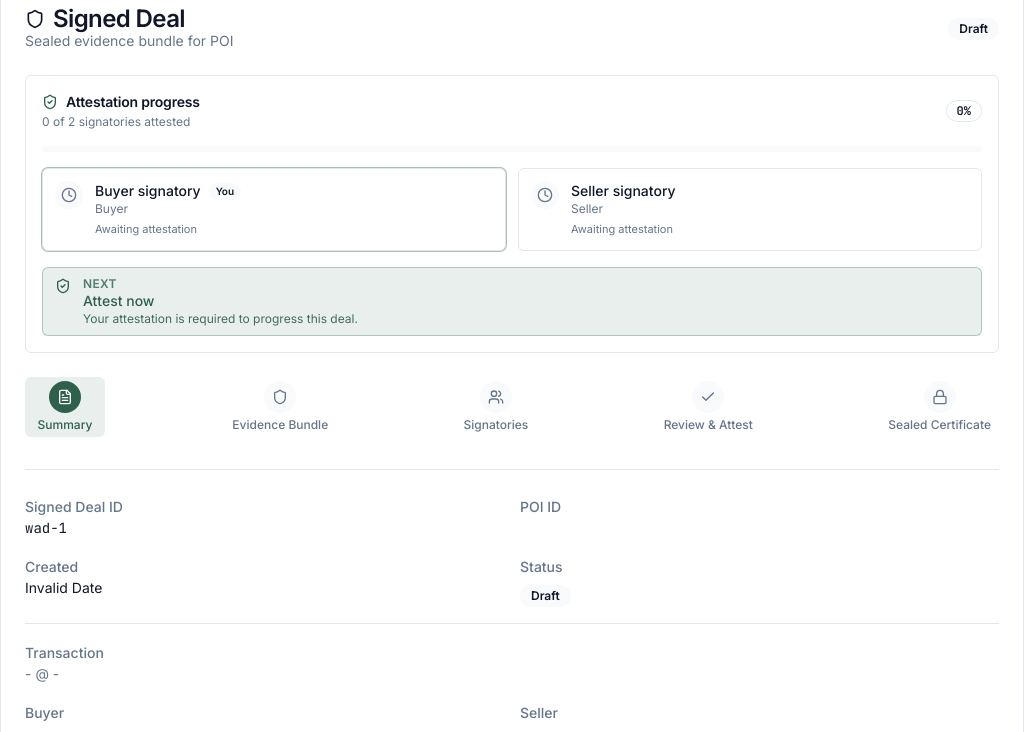
Test: WadStepper attestation error persistence › clears the persisted error after a successful attestation
Click the button "Review & Attest": (708, 407) [656, 377, 761, 437]
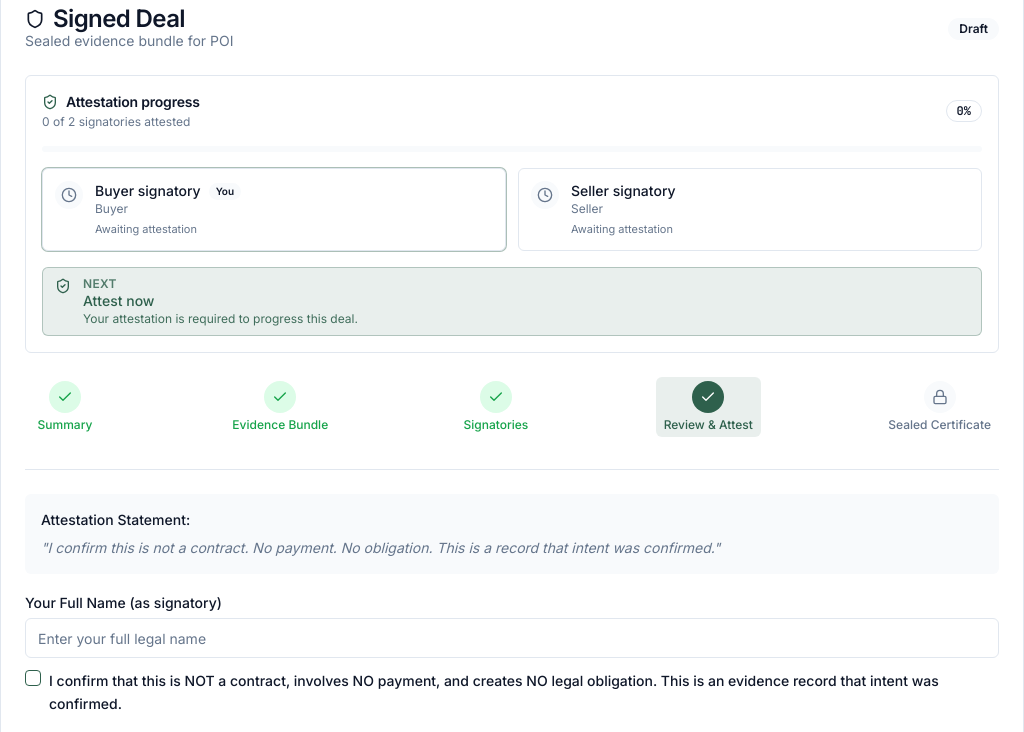
In the field labelled "Your Full Name (as signatory)": (512, 638) [25, 618, 999, 658], type "Jane Doe"
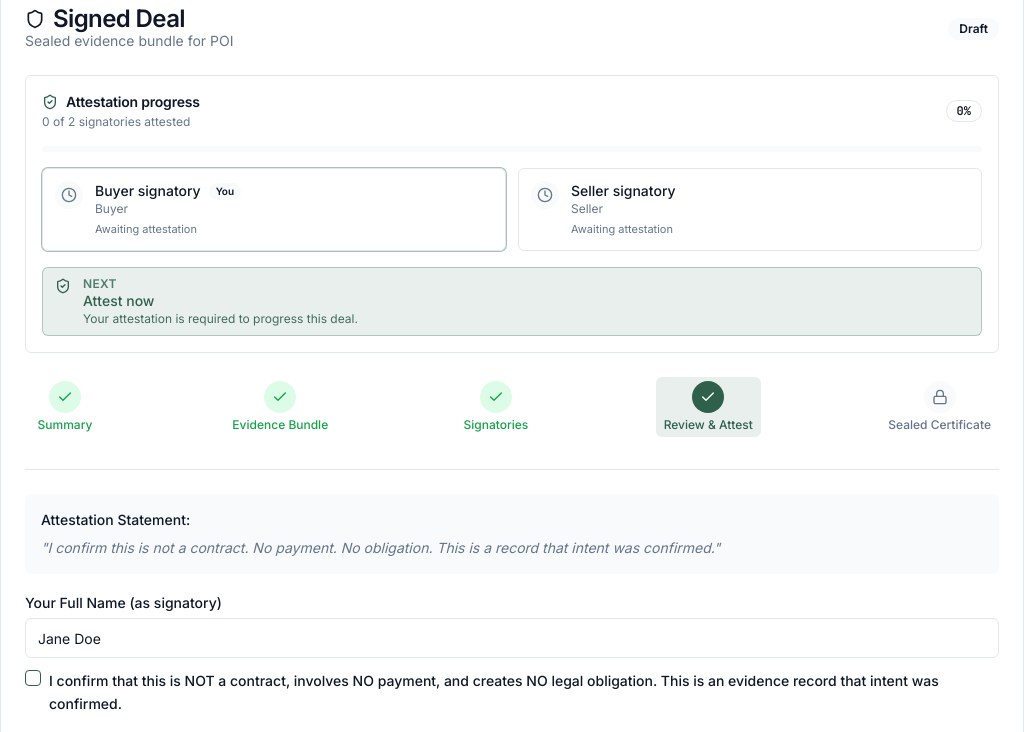
Click the checkbox named "i confirm that this is not a contract": (33, 678) [25, 670, 41, 686]
(page scrolled)
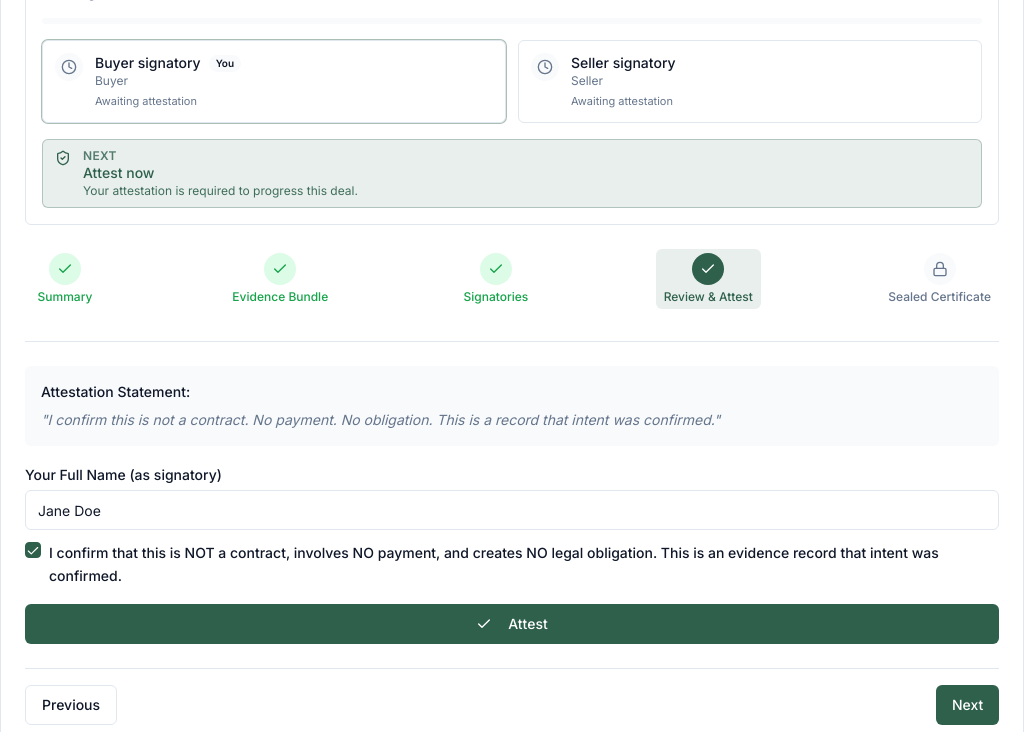
Click the button "Attest": (512, 624) [25, 604, 999, 644]
(page scrolled)
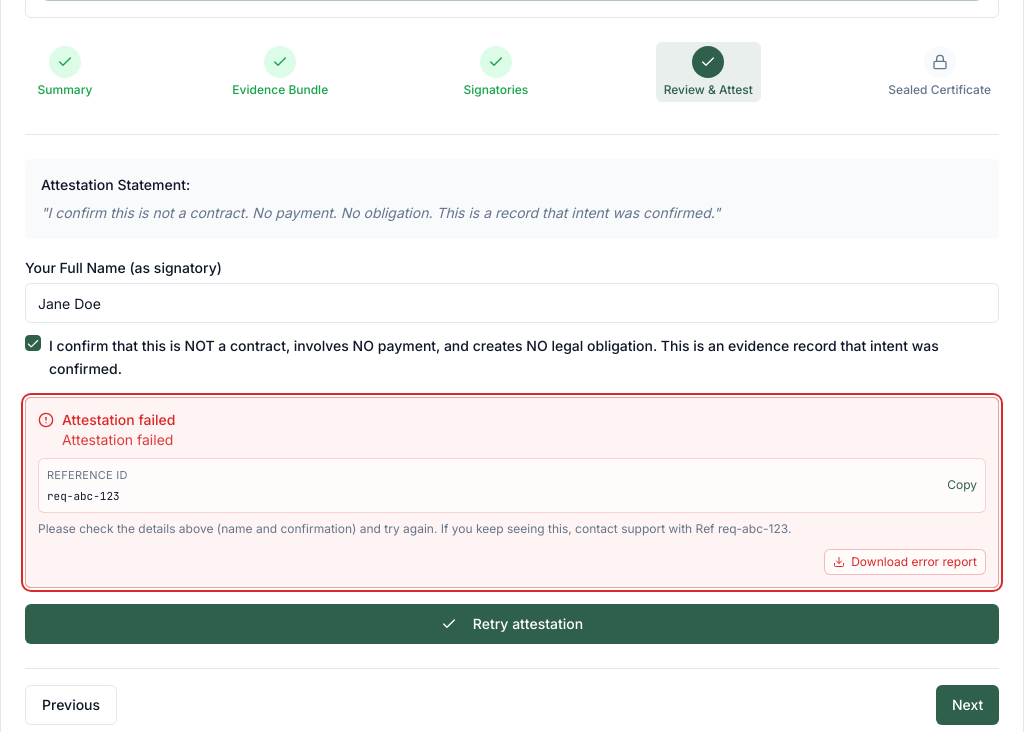
Now the text with test id "attest-error-hint" is shown, box [38, 520, 791, 536]
Click the button "Retry attestation": (512, 624) [25, 604, 999, 644]
(page scrolled)
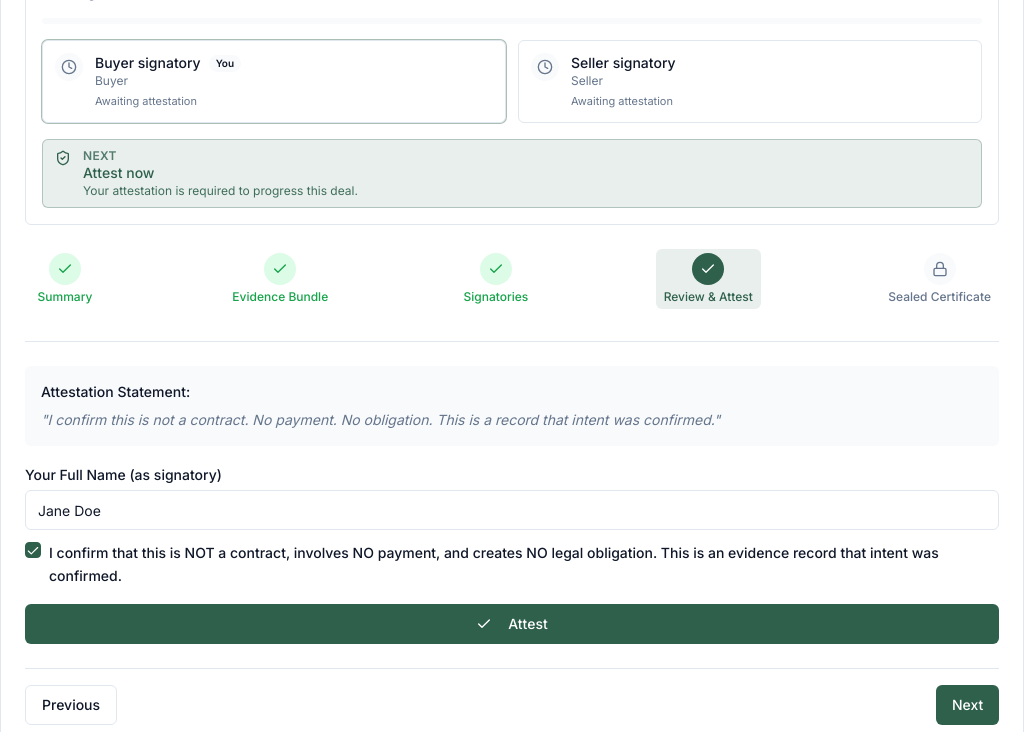
Now the text with test id "attest-error-hint" is gone
